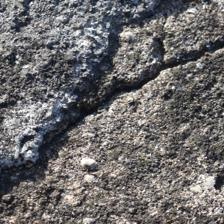Crack: (31, 4, 165, 165), (63, 39, 224, 131)
